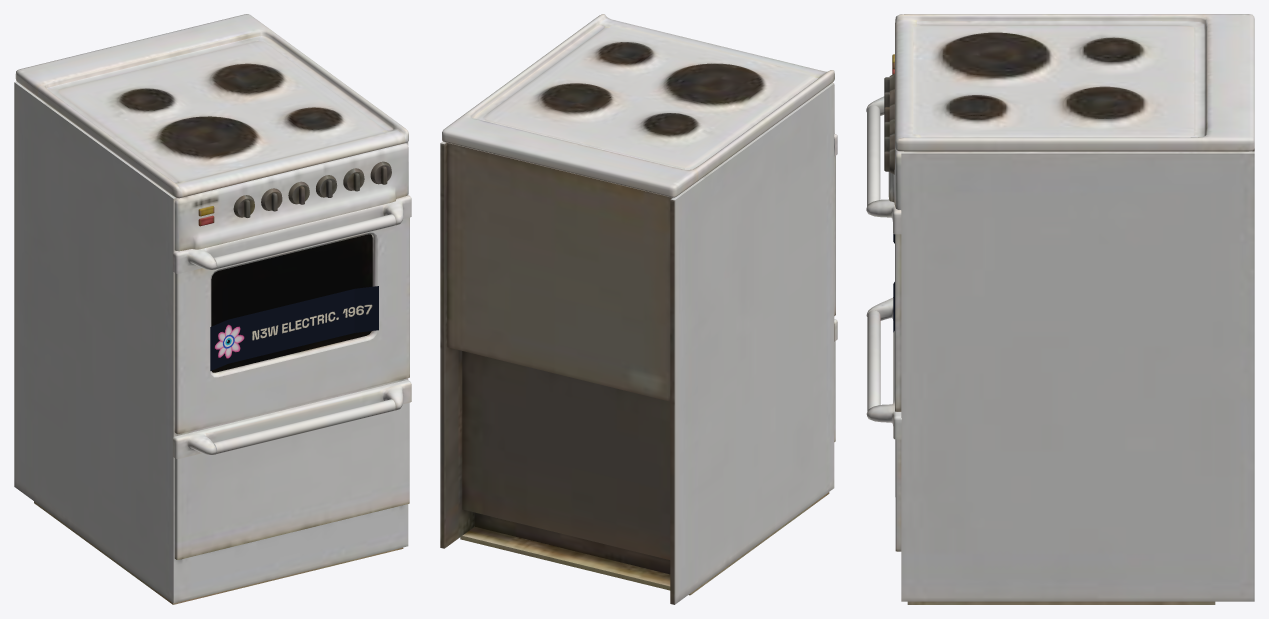
File: nyb_wud_stove.glb
3 views of the same model, side by side, from view 1: azimuth 30°, elevation 25°; view 2: azimuth 150°, elevation 25°; view 3: azimuth 270°, elevation 25° (orthographic). The views are drawn at different scales.
Parts seen in each view (by area): view 1: stovetop, stk_lbl_f9e39cadea.png; view 2: stovetop; view 3: stovetop.
Part boxes in pixels (left/top/right/bottom): stovetop: left=14, top=14, right=411, bottom=604; stk_lbl_f9e39cadea.png: left=210, top=286, right=378, bottom=370; stovetop: left=440, top=14, right=837, bottom=604; stovetop: left=866, top=14, right=1254, bottom=604.
Size of the model in its own units: 0.5026 by 0.8587 by 0.6476.
Materials: 3 (3 with a texture image).
